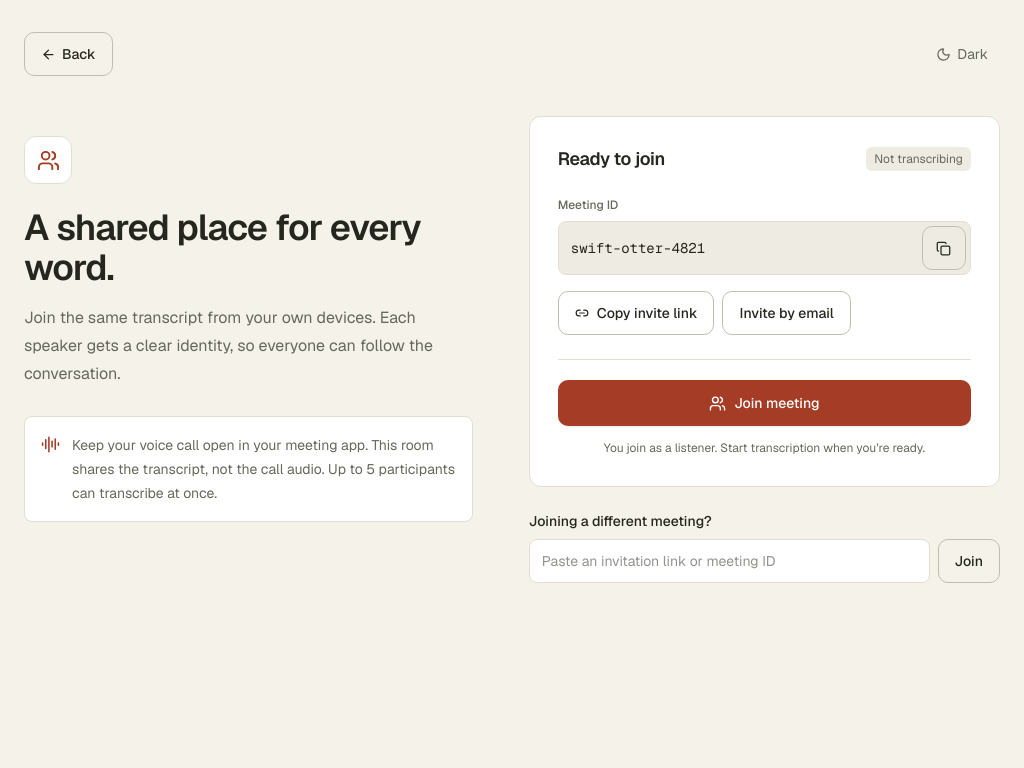
meeting lobby › keeps a failed clipboard copy recoverable without claiming success
The image size is (1024, 768).
Step 1. Click the button "Copy invite link" → click(636, 313), box [558, 291, 714, 335]
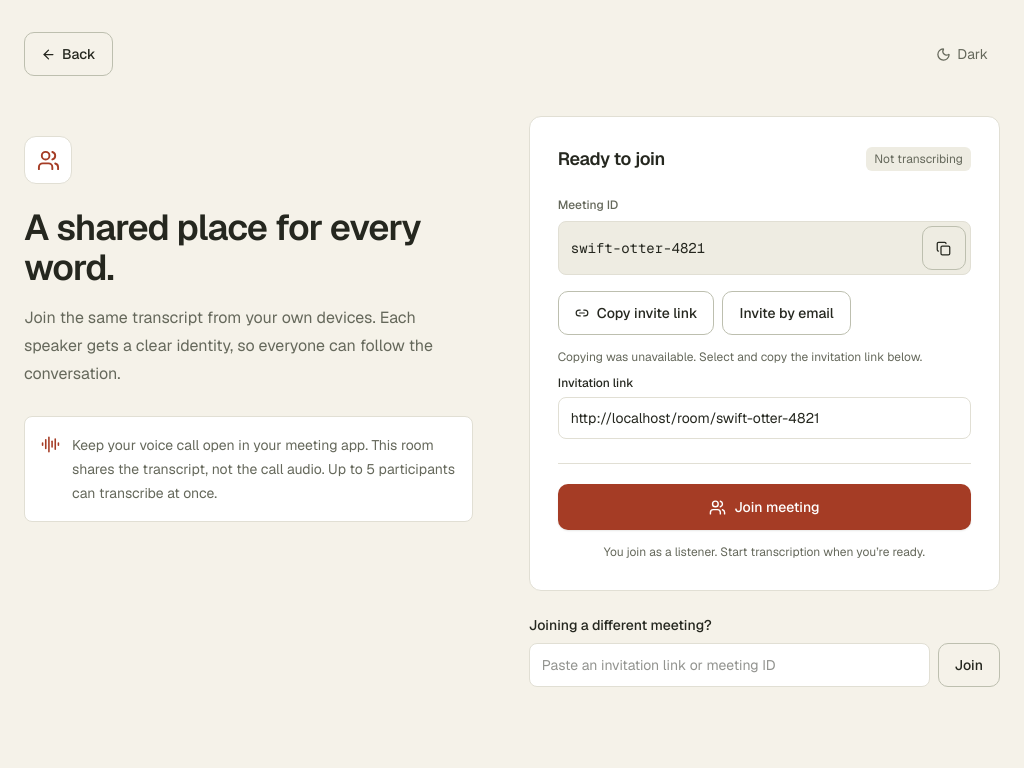
Result: the message shows "Select and copy" at [558, 349, 922, 365]
